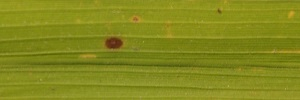RiceBrownSpot: (99, 34, 130, 53)
